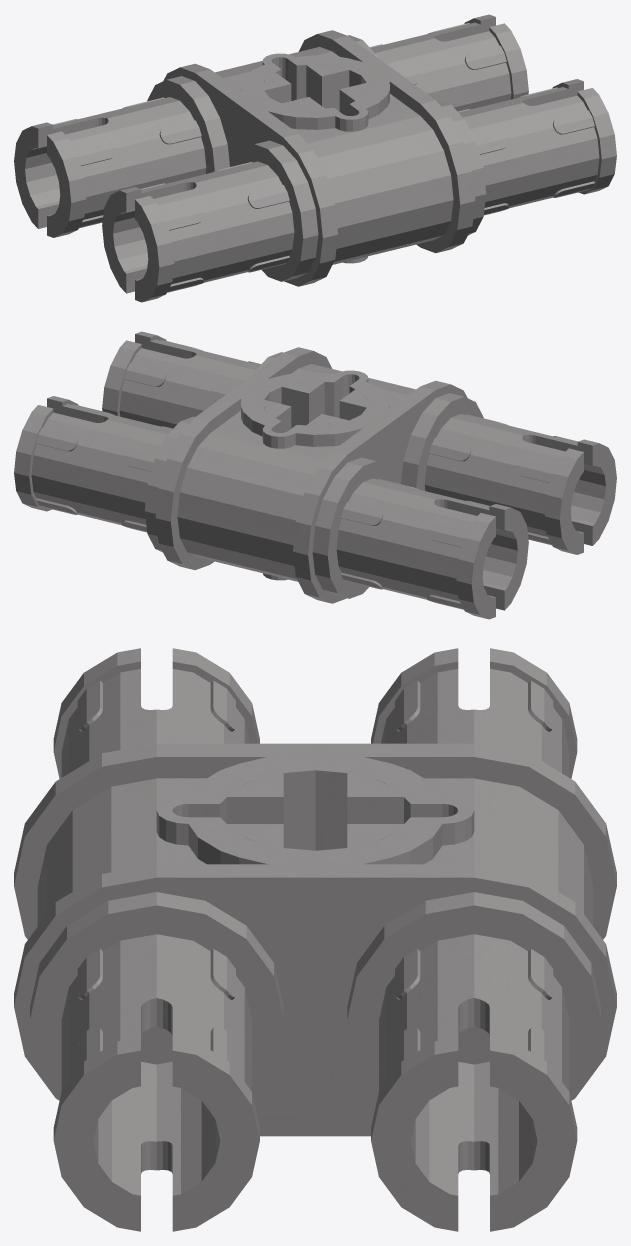
The picture shows the model from 3 angles, top to bottom: view 1: azimuth 30°, elevation 25°; view 2: azimuth 150°, elevation 25°; view 3: azimuth 270°, elevation 25°; orthographic projection. The views are drawn at different scales.
Parts seen in each view (by area): view 1: node; view 2: node; view 3: node.
Part boxes in pixels (left/top/right/bottom): node: left=14, top=14, right=616, bottom=302; node: left=14, top=331, right=616, bottom=619; node: left=14, top=648, right=616, bottom=1231.
Size of the model in its own units: 60 by 18 by 38.
1 material, 1 textured.
